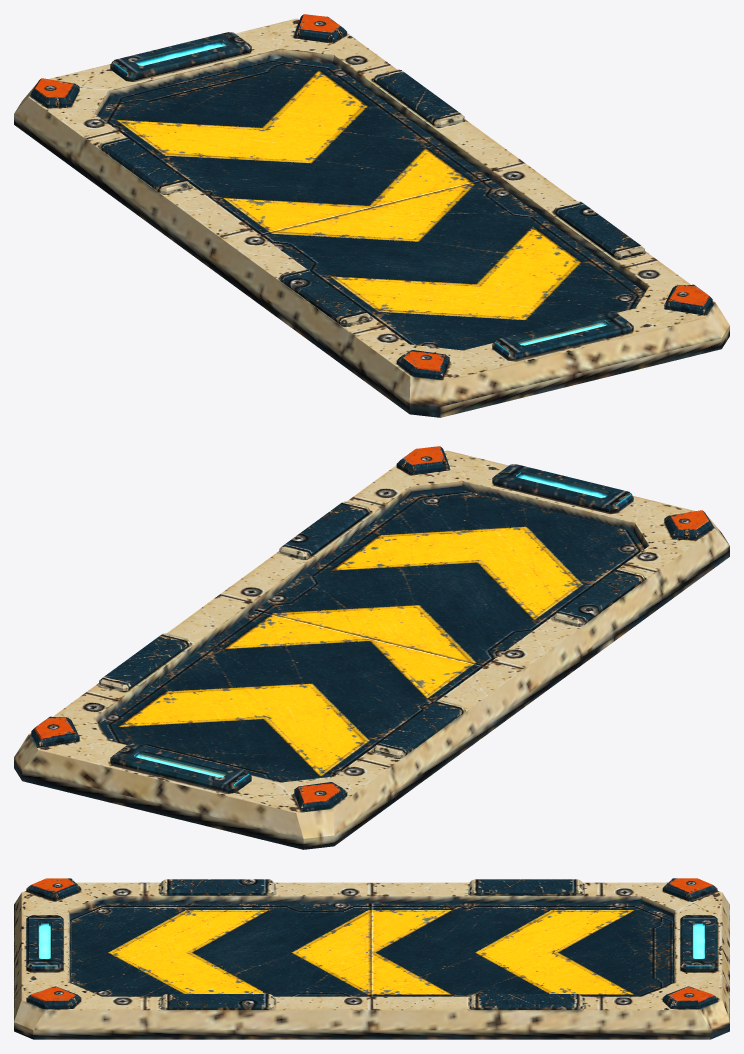
The model's file is boost-pad.glb.
3 renders of one model, top to bottom at view 1: azimuth 30°, elevation 25°; view 2: azimuth 150°, elevation 25°; view 3: azimuth 270°, elevation 25°, orthographic. The views are drawn at different scales.
Parts seen in each view (by area): view 1: BoostPad; view 2: BoostPad; view 3: BoostPad.
Part boxes in pixels (x1,y1,x2,y2): BoostPad: (14,14,729,417); BoostPad: (14,446,729,849); BoostPad: (14,878,729,1039).
Size of the model in its own units: 2.3 by 0.265 by 5.2.
1 material, 1 textured.
